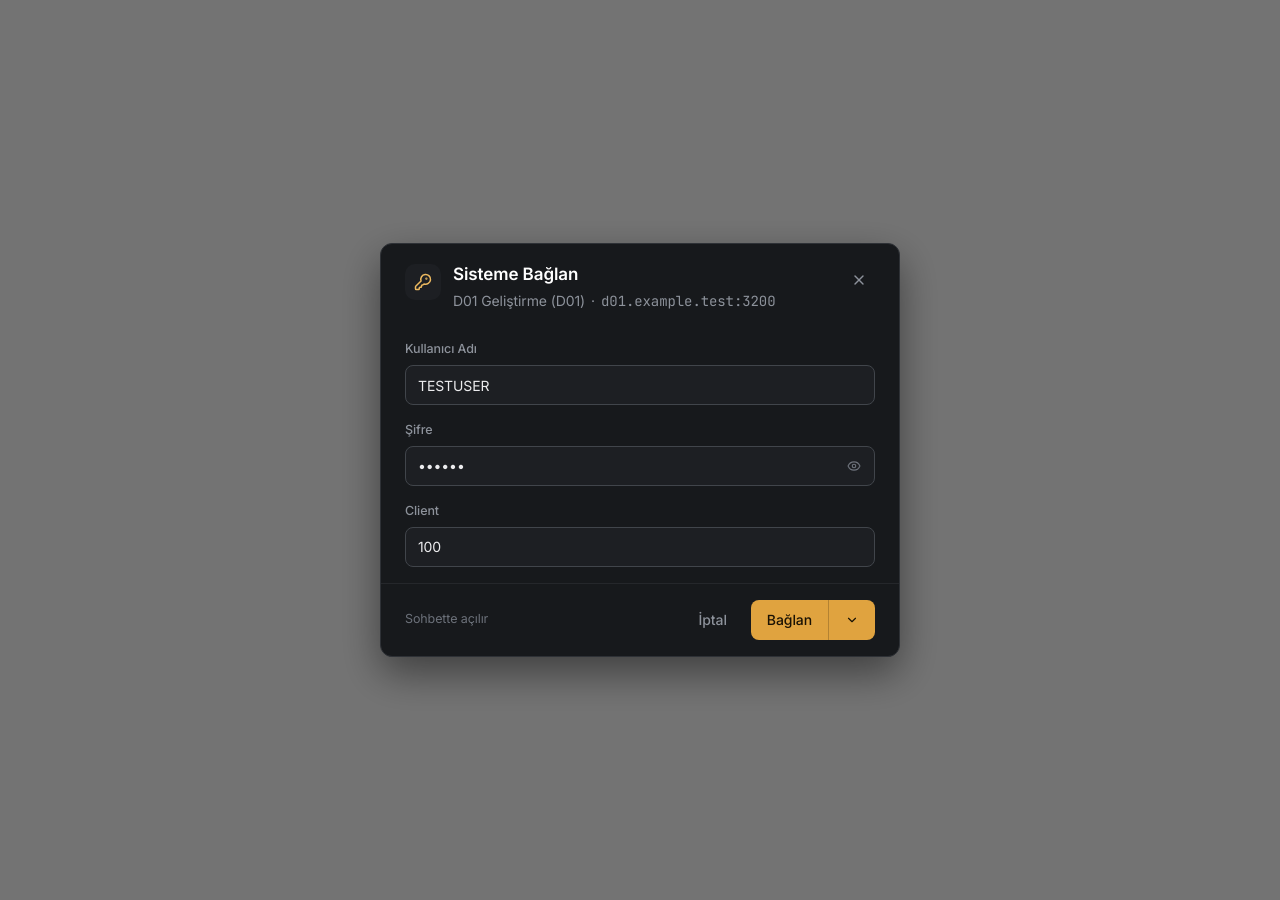
Test case: CredentialsModal › şifre göster/gizle düğmesinin adı var
The width and height of the screenshot is (1280, 900).
Expected: the field labelled "Kullanıcı Adı" holds "TESTUSER", x1=405 y1=365 x2=875 y2=405
Click the button named "Şifreyi göster". click: (854,466)
box: x1=841 y1=453 x2=867 y2=479
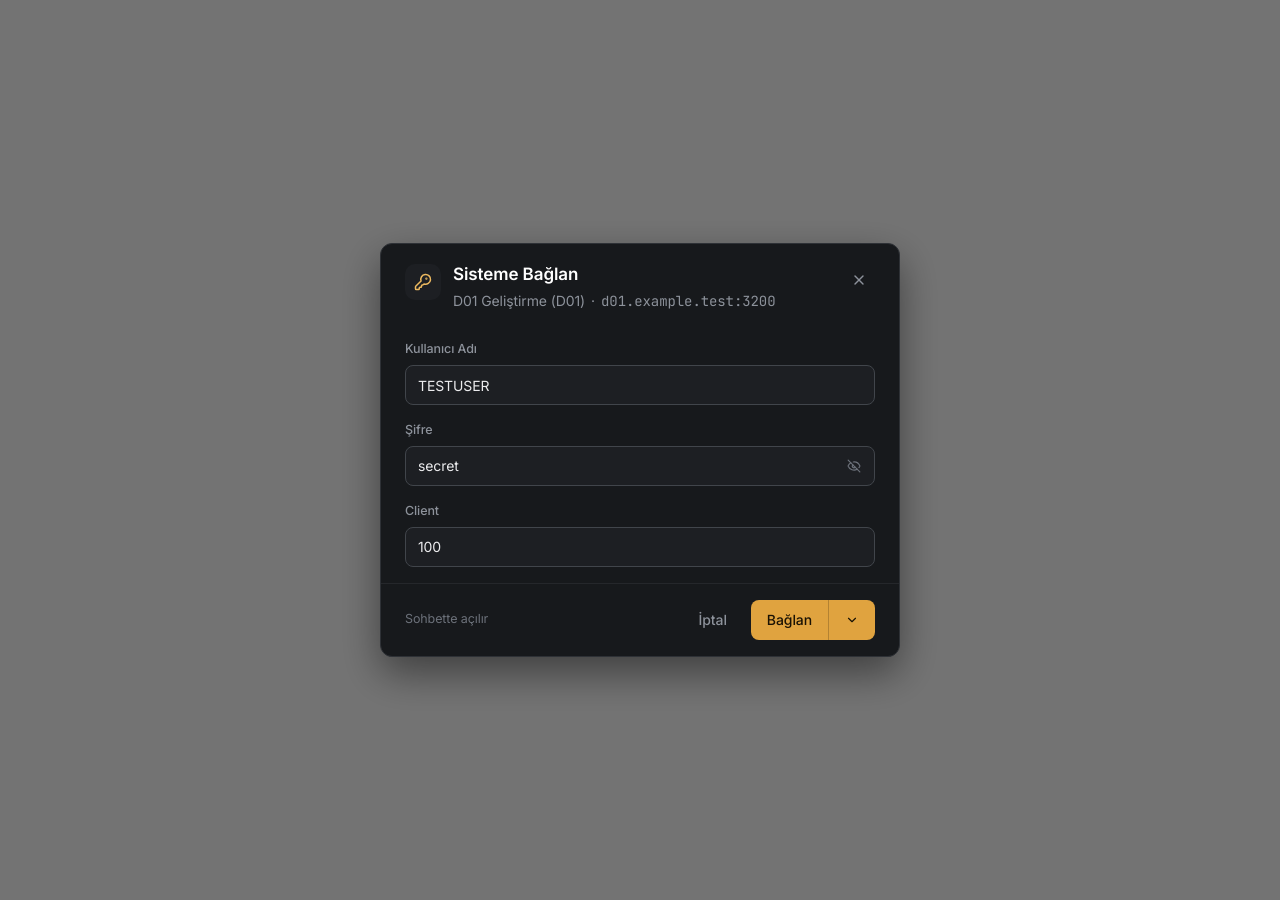
Now the button named "Şifreyi gizle" is shown, box x1=841 y1=453 x2=867 y2=479
